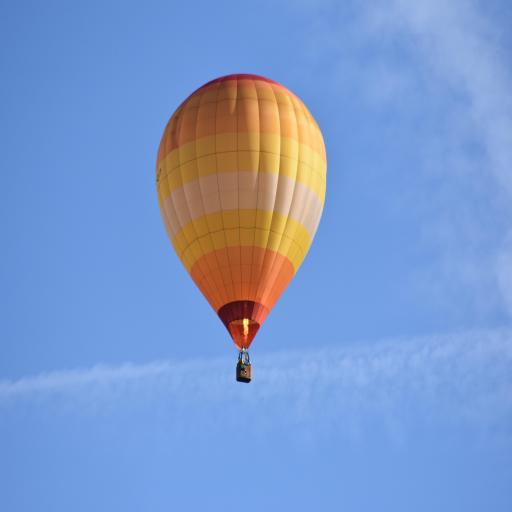hot air ballon: (155, 71, 328, 384)
